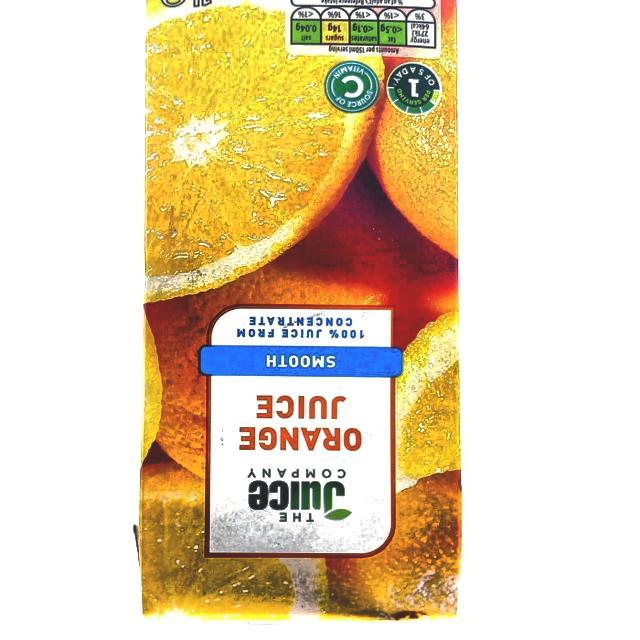cardboard: (139, 0, 461, 622)
